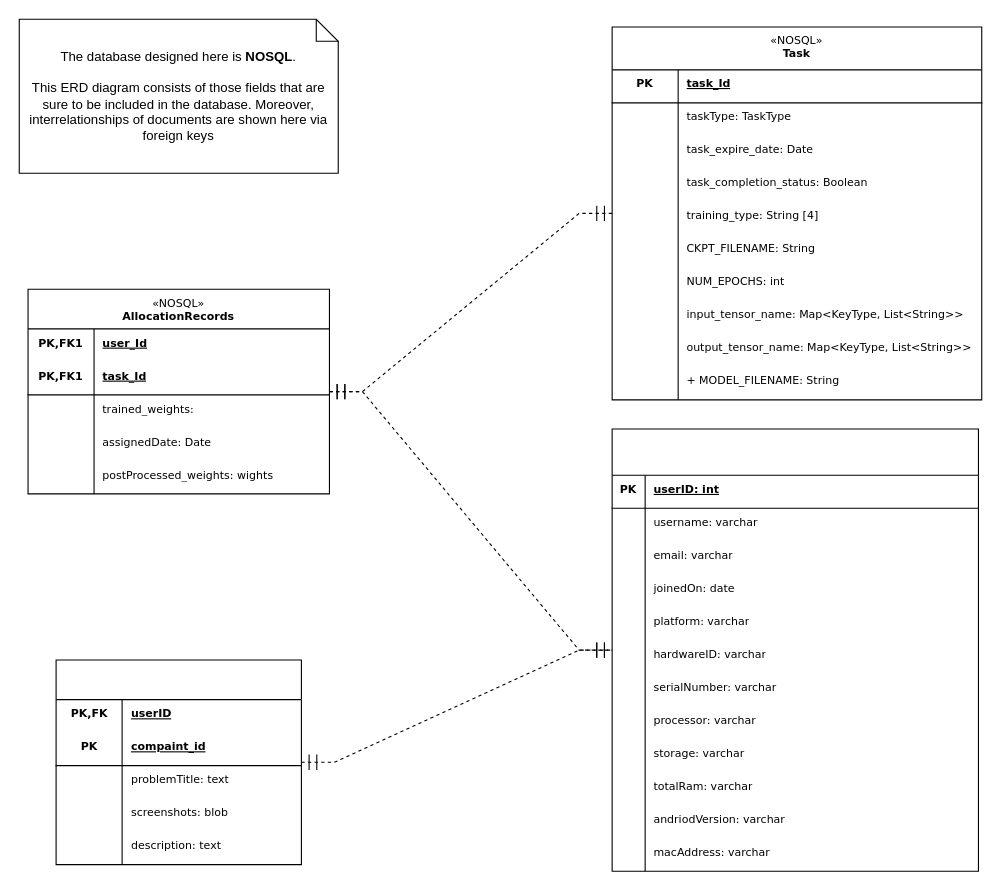
The diagram is 1001 pixels wide and 893 high, and some of its shapes have lost their labels. The box of each missing label's shape, as (x1, y1, x2, y2) in pixels:
«NOSQL» Unregister_DTO: (55, 659, 301, 865)
«NOSQL» Users: (611, 428, 978, 871)
